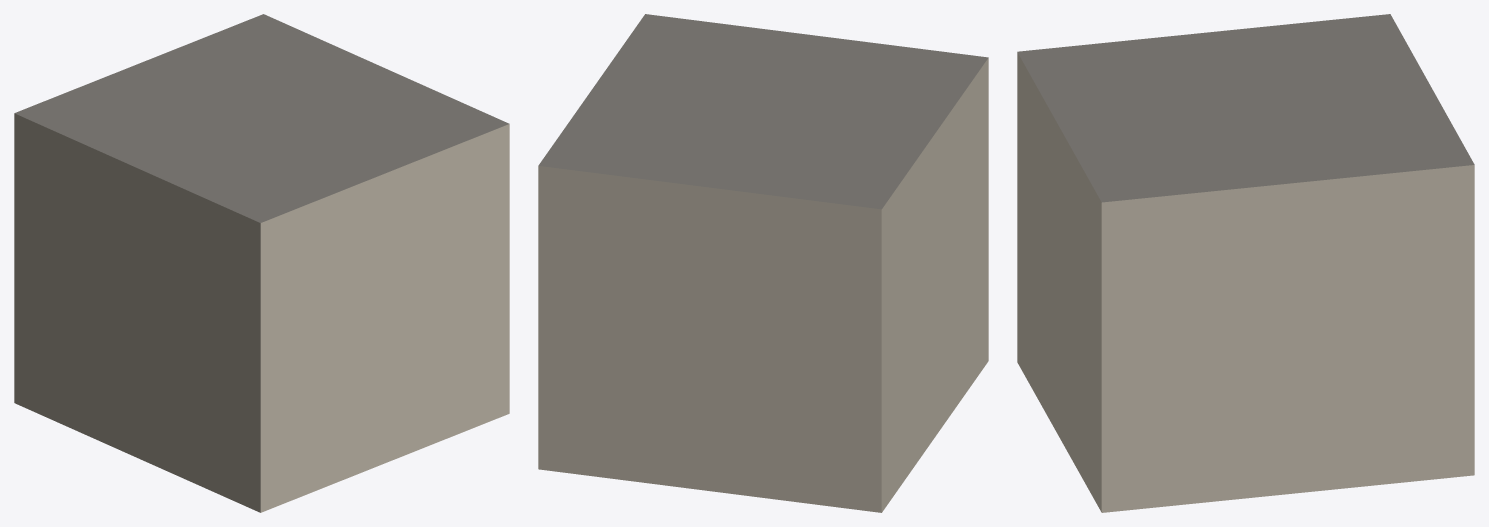
3 views of the same model, side by side, from view 1: azimuth 30°, elevation 25°; view 2: azimuth 150°, elevation 25°; view 3: azimuth 270°, elevation 25° (orthographic). The views are drawn at different scales.
Parts seen in each view (by area): view 1: HP-w414733151; view 2: HP-w414733151; view 3: HP-w414733151.
Boxes of the visible parts, box(x1,y1,x2,y2) form: HP-w414733151: box(14, 14, 509, 512); HP-w414733151: box(538, 14, 988, 512); HP-w414733151: box(1017, 14, 1474, 512).
Size of the model in its own units: 19.53 by 15 by 20.03.
